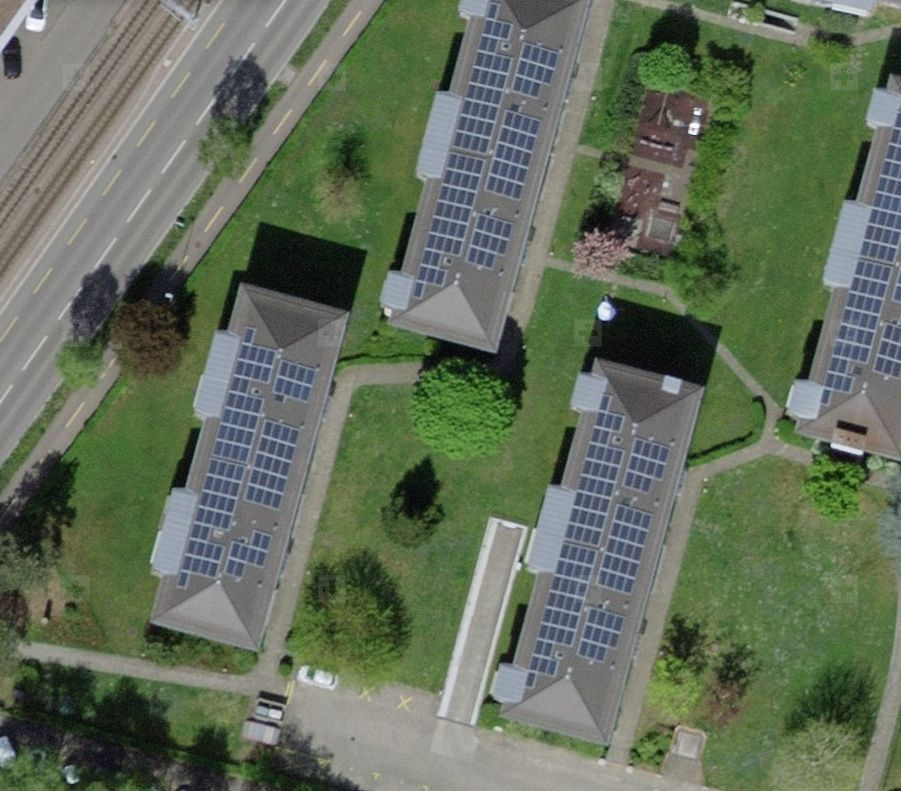solar: (412, 1, 559, 299), (524, 394, 670, 688), (178, 327, 317, 589), (820, 113, 901, 406)
